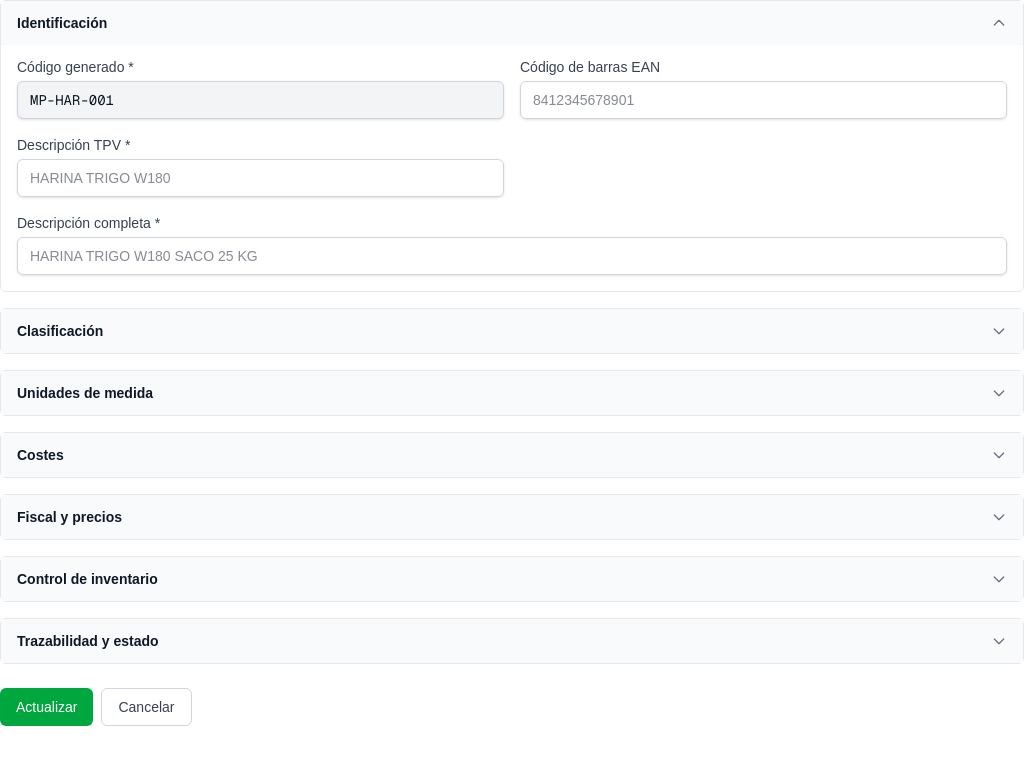
Test: ProductForm pricing calculations › shows the existing type and family while editing
Click the button "Clasificación": click(60, 331) [1,309,1023,353]
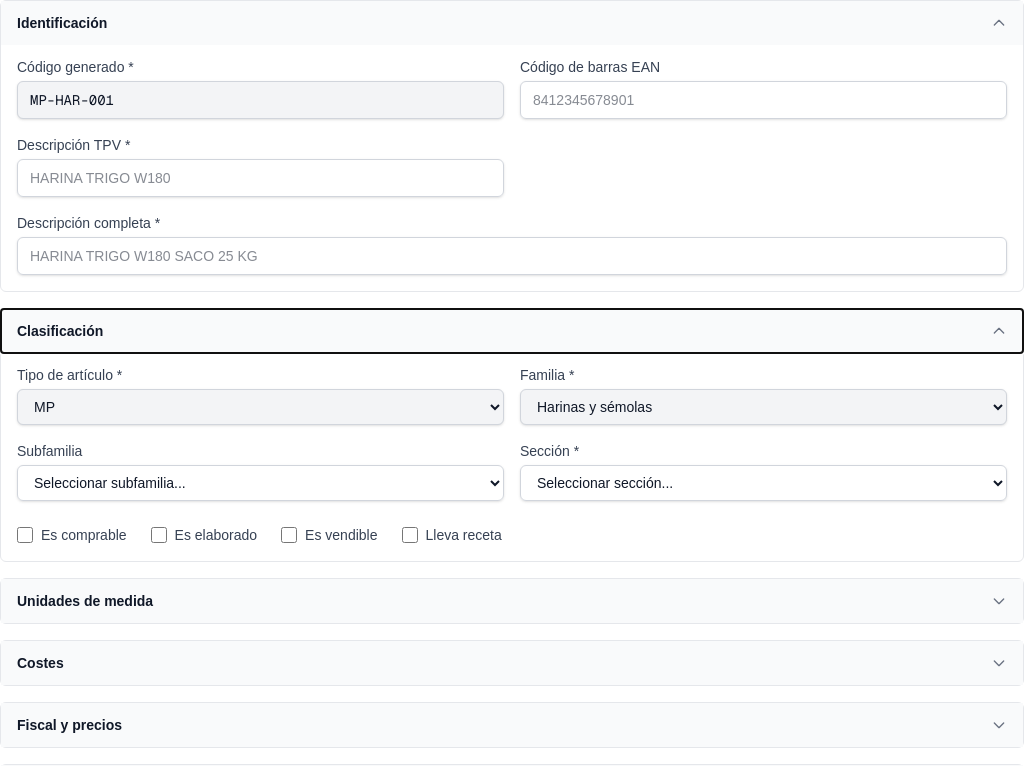
expect the dropdown labelled "Tipo de artículo *" shows "MP": met, box [17,389,504,425]
expect the dropdown labelled "Familia *" shows "Harinas y sémolas": met, box [520,389,1007,425]
